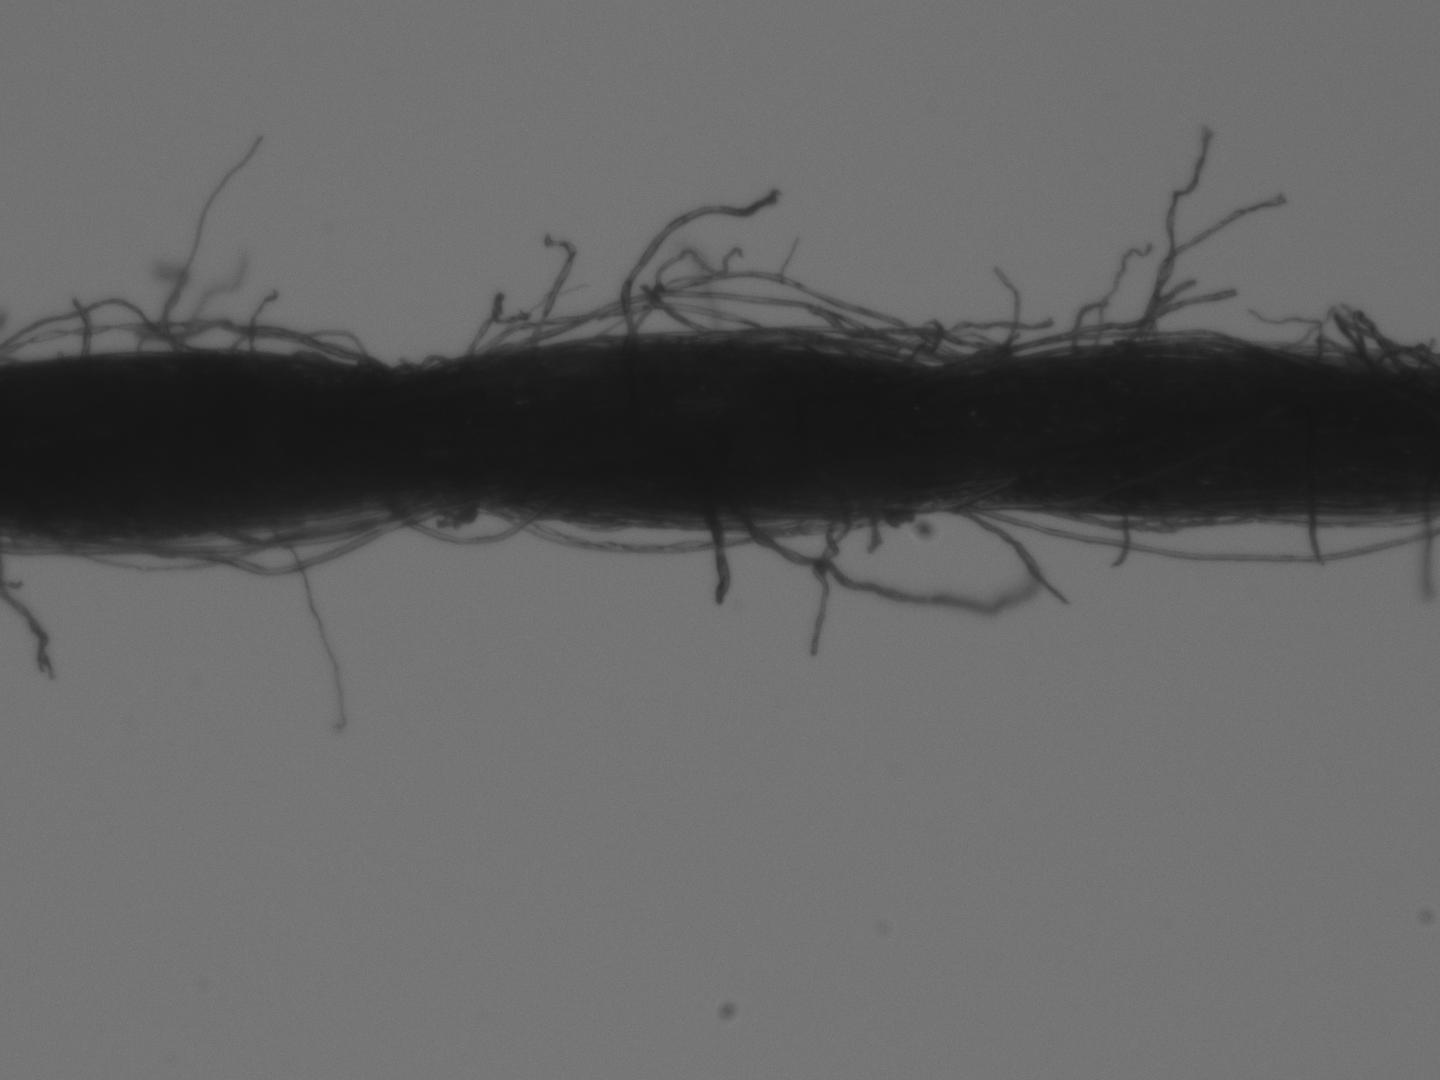loop_fiber: (622, 268, 973, 362), (732, 505, 1039, 610), (113, 505, 423, 574), (498, 507, 839, 558), (475, 302, 759, 354), (7, 294, 204, 365), (177, 319, 370, 364), (998, 326, 1260, 357), (214, 504, 404, 546), (381, 500, 543, 549), (1333, 307, 1431, 370)
protruding_fiber: (141, 137, 263, 358), (612, 183, 782, 341), (270, 521, 348, 733), (986, 261, 1023, 361), (698, 506, 728, 601), (1101, 511, 1127, 580), (66, 296, 86, 361), (1306, 514, 1325, 568)
